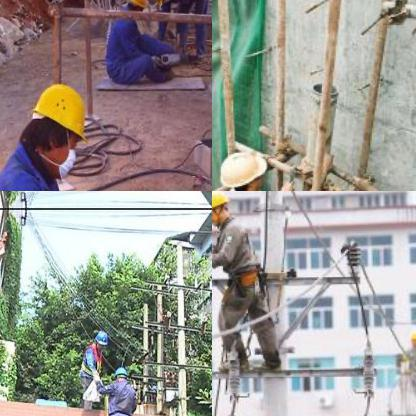Helmet: (22, 74, 94, 168), (212, 142, 274, 190), (212, 191, 232, 225), (121, 0, 150, 20), (90, 327, 110, 349), (112, 364, 128, 380), (407, 329, 415, 345)
